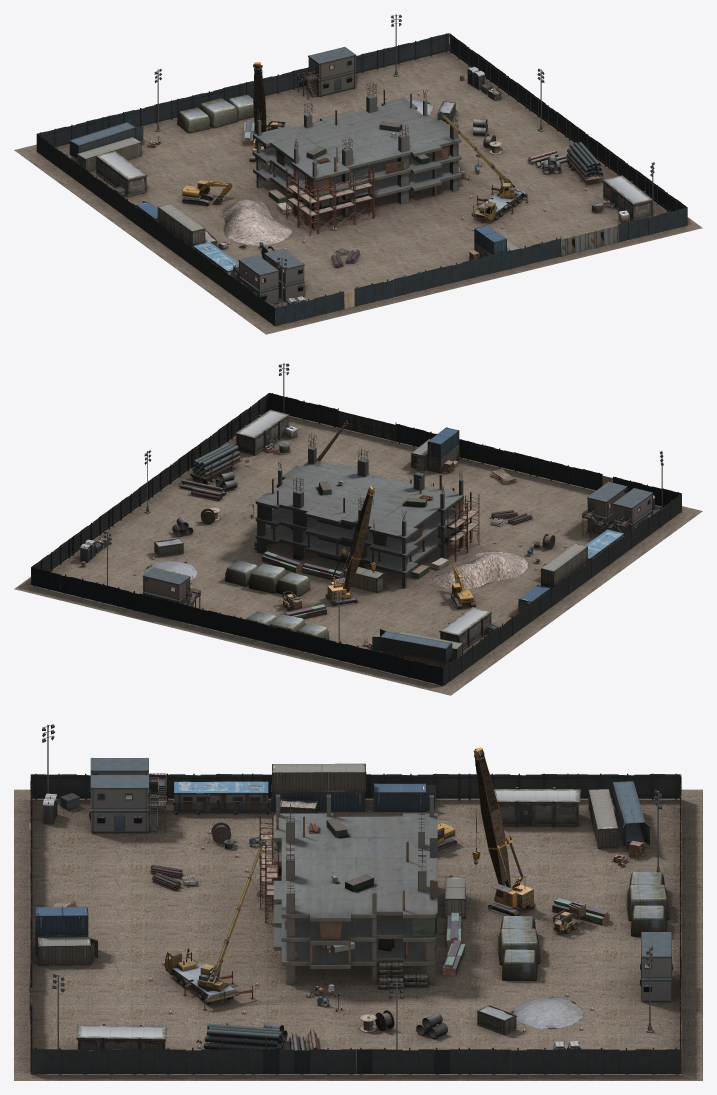
The model's file is SC4_ConstructionSite_Optimize_n_BakePBR.fbx.
The picture shows the model from 3 angles, top to bottom: view 1: azimuth 30°, elevation 25°; view 2: azimuth 150°, elevation 25°; view 3: azimuth 270°, elevation 25°; orthographic projection. The views are drawn at different scales.
Parts seen in each view (by area): view 1: Ground, fence_wall, MainBuliding, polySurface2142, Office2Story.002, object_A.020, Car_A.004, object_A.016, Office2Story.001, object_A.019, Office2Story.004, container.006 (+8 smaller); view 2: Ground, fence_wall, MainBuliding, polySurface2142, object_A.003, Car_B.001, container.006, Office2Story.002, object_A.019, Office2Story.001, Office2Story.004, object_A.016 (+8 smaller); view 3: Ground, fence_wall, MainBuliding, container.004, Office2Story.004, Car_B.001, object_A.016, object_A.018, Car_A.004, object_A.003, object_A.020, object_A.019 (+17 smaller).
Boxes of the visible parts, x1=… form: Ground: x1=14, y1=44, x2=702, y2=334; fence_wall: x1=36, y1=33, x2=687, y2=325; MainBuliding: x1=253, y1=89, x2=461, y2=228; polySurface2142: x1=222, y1=199, x2=292, y2=245; Office2Story.002: x1=297, y1=47, x2=356, y2=99; object_A.020: x1=177, y1=94, x2=253, y2=133; Car_A.004: x1=437, y1=111, x2=528, y2=223; object_A.016: x1=95, y1=151, x2=147, y2=196; Office2Story.001: x1=233, y1=255, x2=278, y2=303; object_A.019: x1=602, y1=175, x2=652, y2=220; Office2Story.004: x1=264, y1=248, x2=304, y2=301; container.006: x1=69, y1=120, x2=143, y2=160; Ground: x1=14, y1=416, x2=702, y2=695; fence_wall: x1=31, y1=393, x2=681, y2=685; MainBuliding: x1=255, y1=446, x2=463, y2=588; polySurface2142: x1=433, y1=551, x2=528, y2=589; object_A.003: x1=225, y1=560, x2=310, y2=597; Car_B.001: x1=325, y1=486, x2=375, y2=606; container.006: x1=372, y1=629, x2=452, y2=666; Office2Story.002: x1=142, y1=567, x2=200, y2=608; object_A.019: x1=235, y1=409, x2=289, y2=454; Office2Story.001: x1=606, y1=488, x2=653, y2=535; Office2Story.004: x1=582, y1=481, x2=627, y2=537; object_A.016: x1=439, y1=607, x2=491, y2=649; Ground: x1=14, y1=789, x2=702, y2=1080; fence_wall: x1=29, y1=773, x2=681, y2=1074; MainBuliding: x1=273, y1=794, x2=437, y2=984; container.004: x1=271, y1=763, x2=366, y2=811; Office2Story.004: x1=89, y1=774, x2=166, y2=833; Car_B.001: x1=472, y1=747, x2=535, y2=915; object_A.016: x1=494, y1=787, x2=580, y2=827; object_A.018: x1=173, y1=781, x2=269, y2=814; Car_A.004: x1=164, y1=841, x2=264, y2=1010; object_A.003: x1=497, y1=916, x2=540, y2=980; object_A.020: x1=626, y1=871, x2=669, y2=936; object_A.019: x1=76, y1=1023, x2=166, y2=1050.
Bounding box in the file's own units: 3559 × 852 × 3559.
11 materials, 11 textured.
